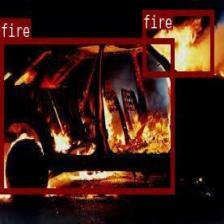fire: (0, 37, 173, 192), (142, 9, 214, 76)
